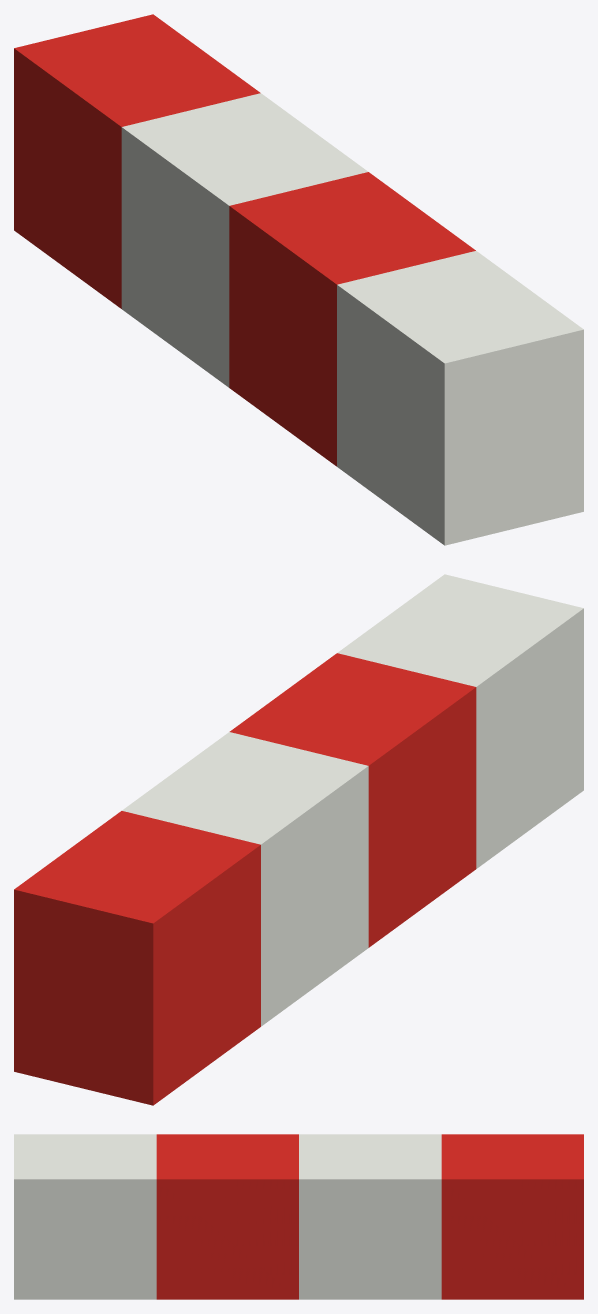
The model's file is safety_barrier.glb.
3 views of the same model, one above another, from view 1: azimuth 30°, elevation 25°; view 2: azimuth 150°, elevation 25°; view 3: azimuth 270°, elevation 25° (orthographic). The views are drawn at different scales.
Visible parts, largest first — view 1: Barrier, Barrier.002, Barrier.003, Barrier.001; view 2: Barrier.003, Barrier.001, Barrier, Barrier.002; view 3: Barrier, Barrier.001, Barrier.002, Barrier.003.
Boxes of the visible parts, left/top/right/bottom form: Barrier: left=337, top=251, right=583, bottom=545; Barrier.002: left=121, top=93, right=368, bottom=387; Barrier.003: left=14, top=14, right=260, bottom=308; Barrier.001: left=229, top=172, right=475, bottom=466; Barrier.003: left=14, top=811, right=260, bottom=1105; Barrier.001: left=229, top=653, right=476, bottom=947; Barrier: left=337, top=574, right=583, bottom=868; Barrier.002: left=122, top=732, right=368, bottom=1026; Barrier: left=14, top=1134, right=156, bottom=1299; Barrier.001: left=156, top=1134, right=298, bottom=1299; Barrier.002: left=299, top=1134, right=441, bottom=1299; Barrier.003: left=441, top=1134, right=583, bottom=1299.
Size of the model in its own units: 0.56 by 0.7 by 3.
